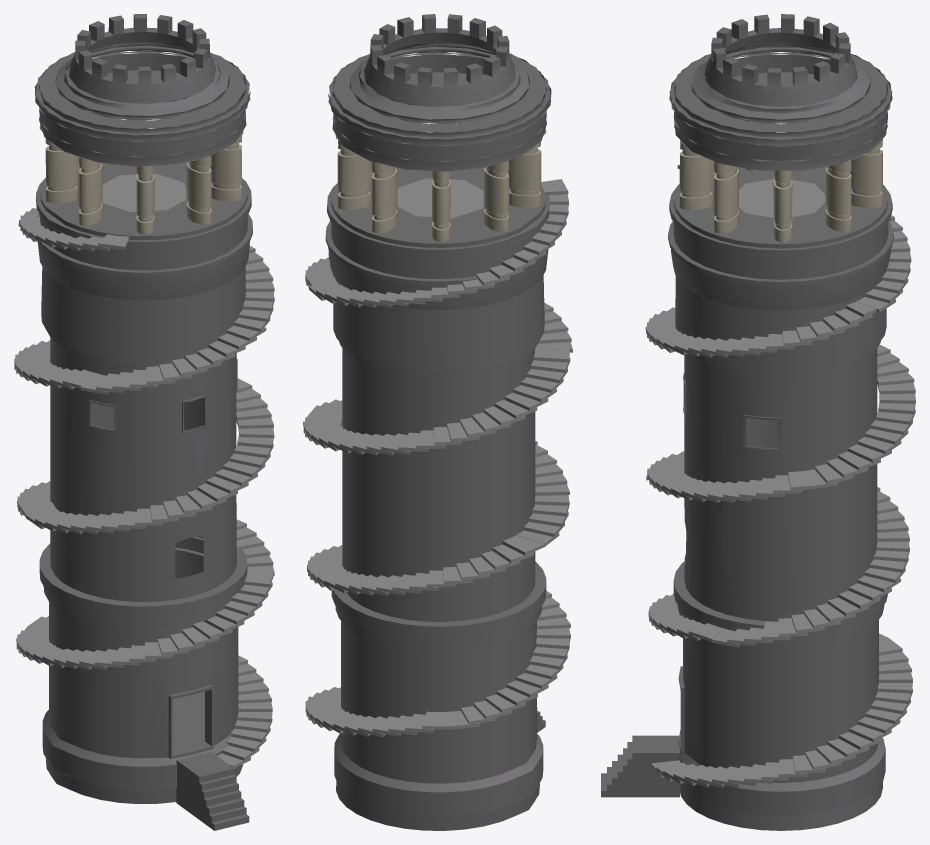
Rendered from Tower_finished.fbx.
The picture shows the model from 3 angles, left to right: view 1: azimuth 30°, elevation 25°; view 2: azimuth 150°, elevation 25°; view 3: azimuth 270°, elevation 25°; orthographic projection. The views are drawn at different scales.
Parts seen in each view (by area): view 1: Circle.028; view 2: Circle.028; view 3: Circle.028.
Part boxes in pixels (x1,y1,x2,y2): Circle.028: (14, 14, 274, 830); Circle.028: (303, 14, 572, 830); Circle.028: (601, 14, 915, 830).
Bounding box in the file's own units: 81.15 × 249 × 95.3.
